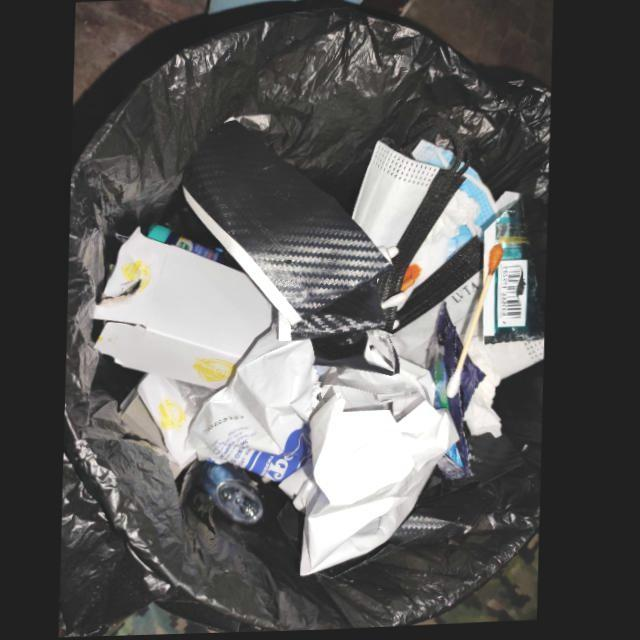cardboard: (95, 228, 275, 390), (140, 374, 200, 466)
paper: (297, 359, 463, 579)
plastic_bag: (191, 328, 325, 484)
